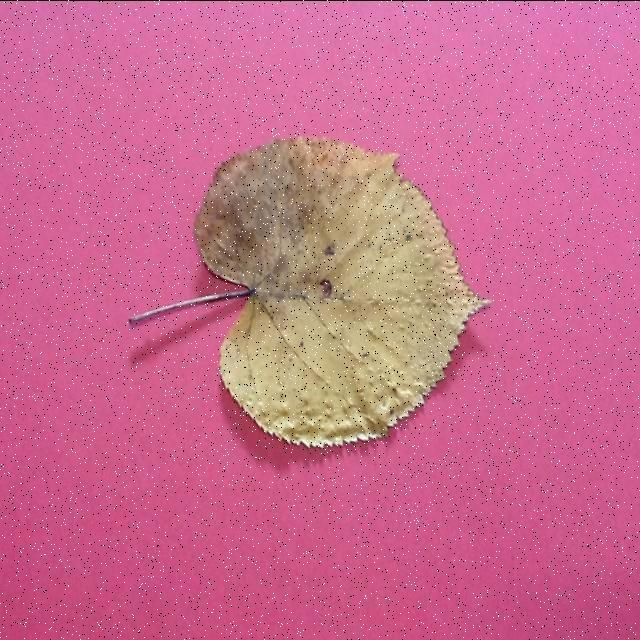foliage: (126, 137, 492, 448)
